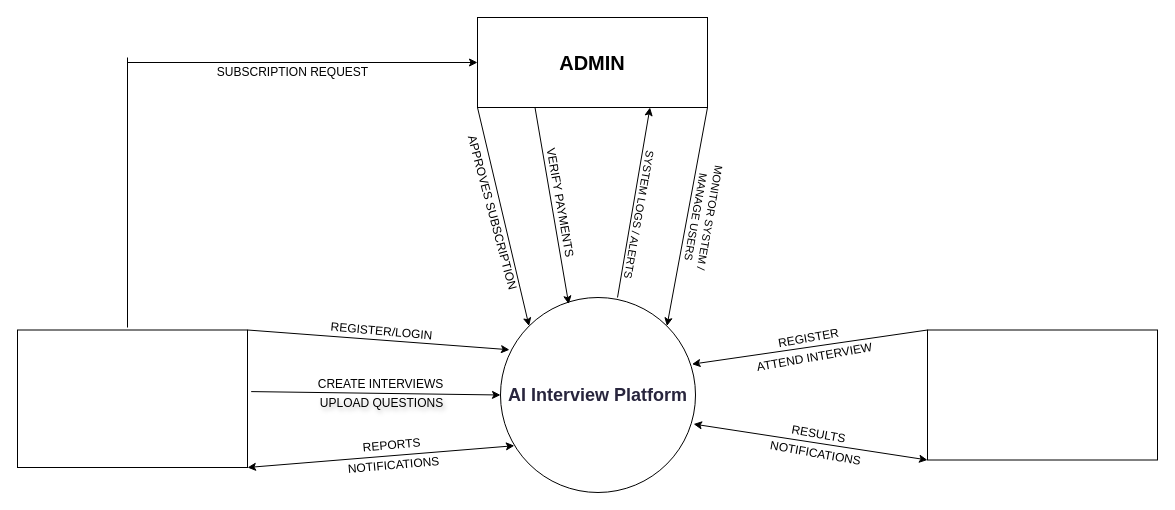
The diagram is 1175 pixels wide and 510 high, and some of its shapes have lost their labels. The shapes that lost their labels are listed below. From the top down, each one's box as (x1, y1, x2, y2) in pixels, then its label:
(16, 329, 248, 468): RECRUITER
(926, 329, 1158, 460): CANDIDATE
